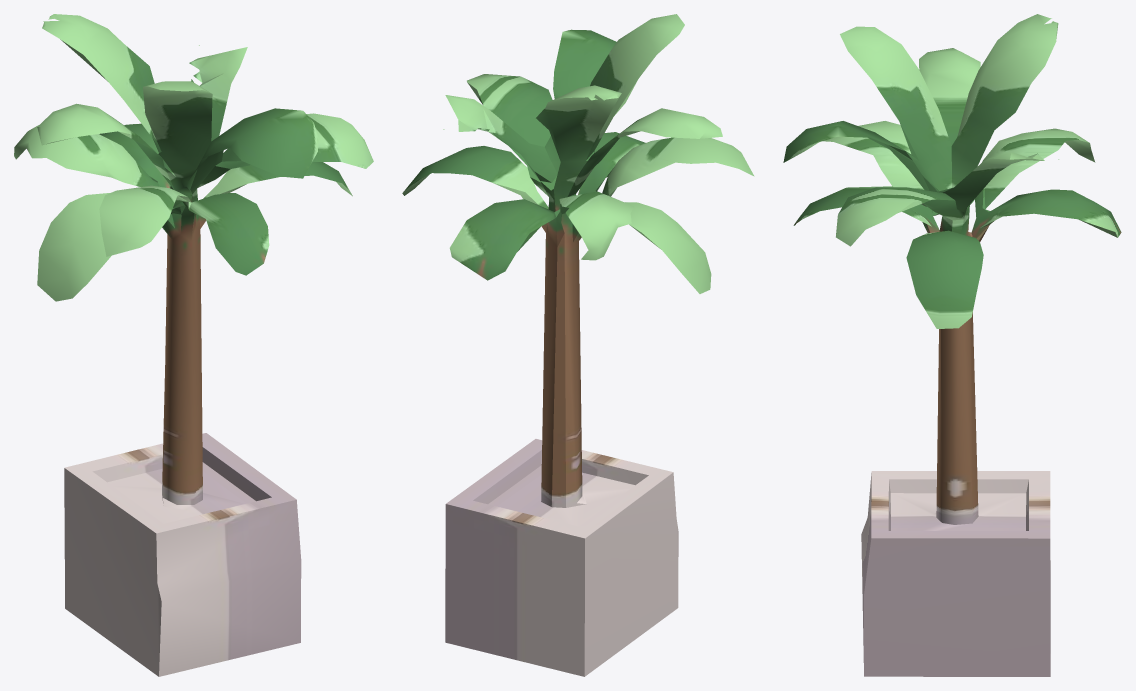
3 views of the same model, side by side, from view 1: azimuth 30°, elevation 25°; view 2: azimuth 150°, elevation 25°; view 3: azimuth 270°, elevation 25° (orthographic).
Parts seen in each view (by area): view 1: Decor_indoor_palm; view 2: Decor_indoor_palm; view 3: Decor_indoor_palm.
Boxes of the visible parts, x1,y1,x2,y2 form: Decor_indoor_palm: (14,14,373,676); Decor_indoor_palm: (402,14,754,676); Decor_indoor_palm: (783,14,1121,676).
Bounding box in the file's own units: 1.32 × 2.39 × 1.26.
Materials: 1 (1 with a texture image).
